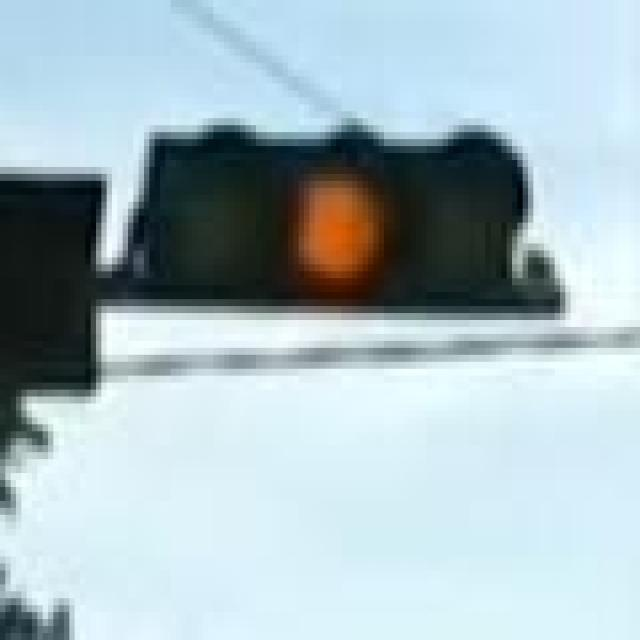yellow_light: (123, 118, 523, 320)
